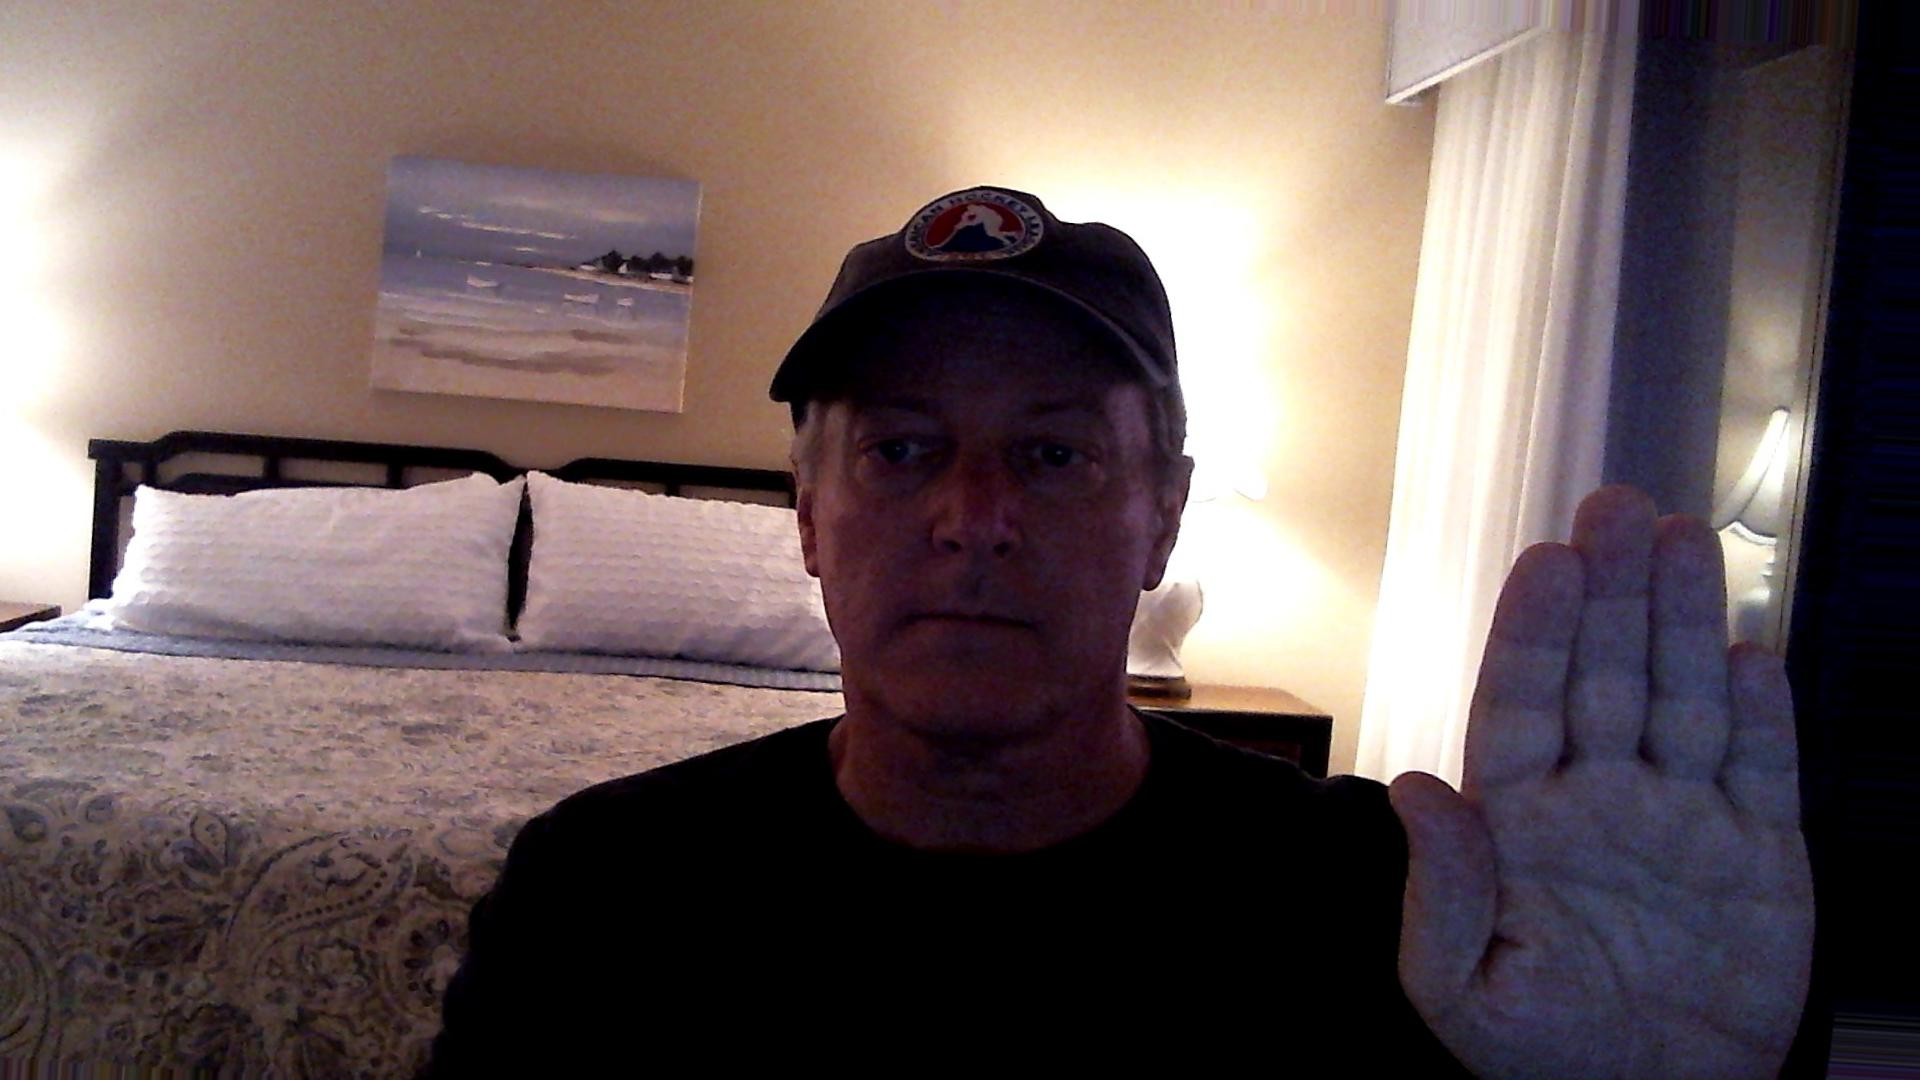Hello: (1381, 465, 1821, 1080)
